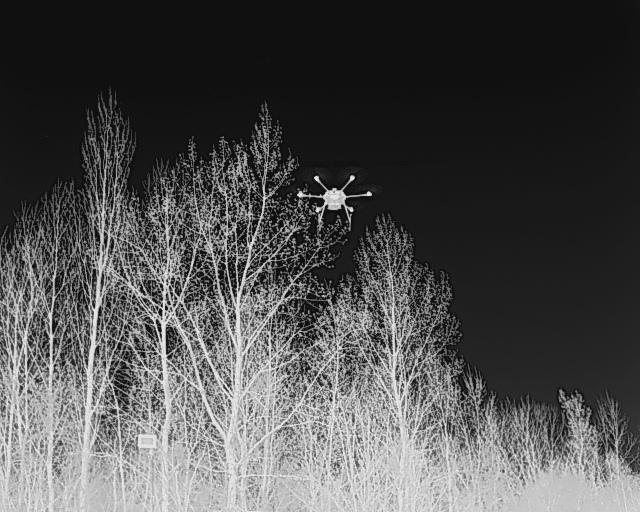drone: (284, 172, 373, 248)
